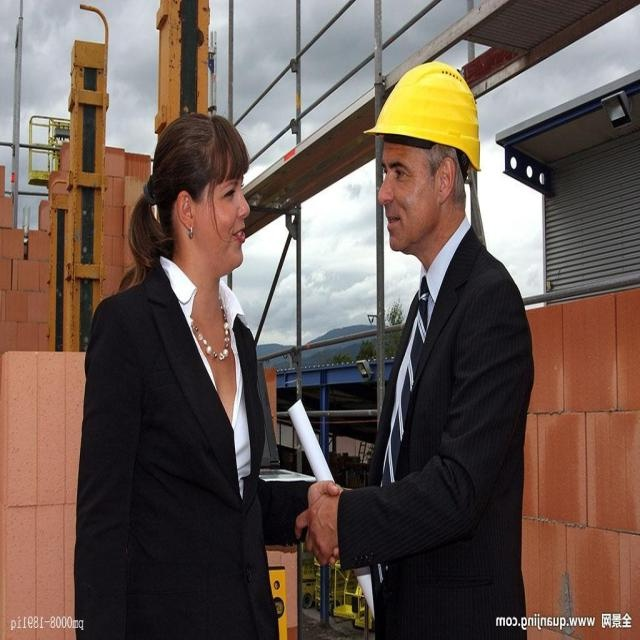Con_Casco: (372, 62, 480, 254)
Sin_Casco_Mascarrilla: (153, 112, 255, 271)
